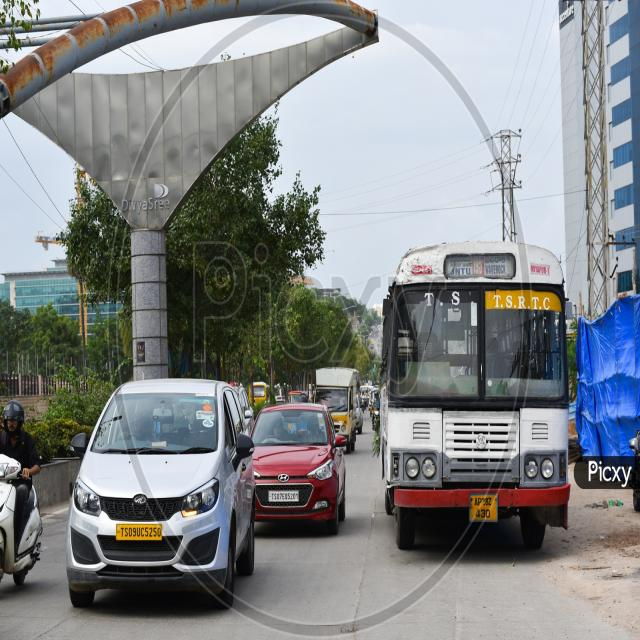BUS: (376, 222, 574, 558)
